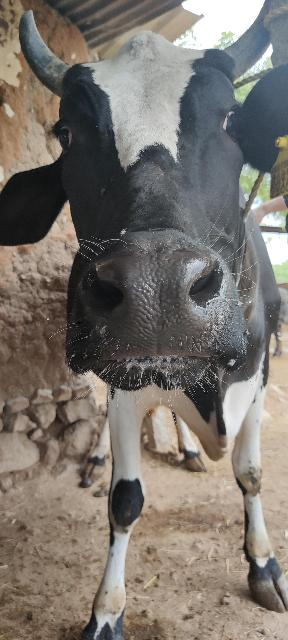Muzzle: (88, 246, 235, 364)
